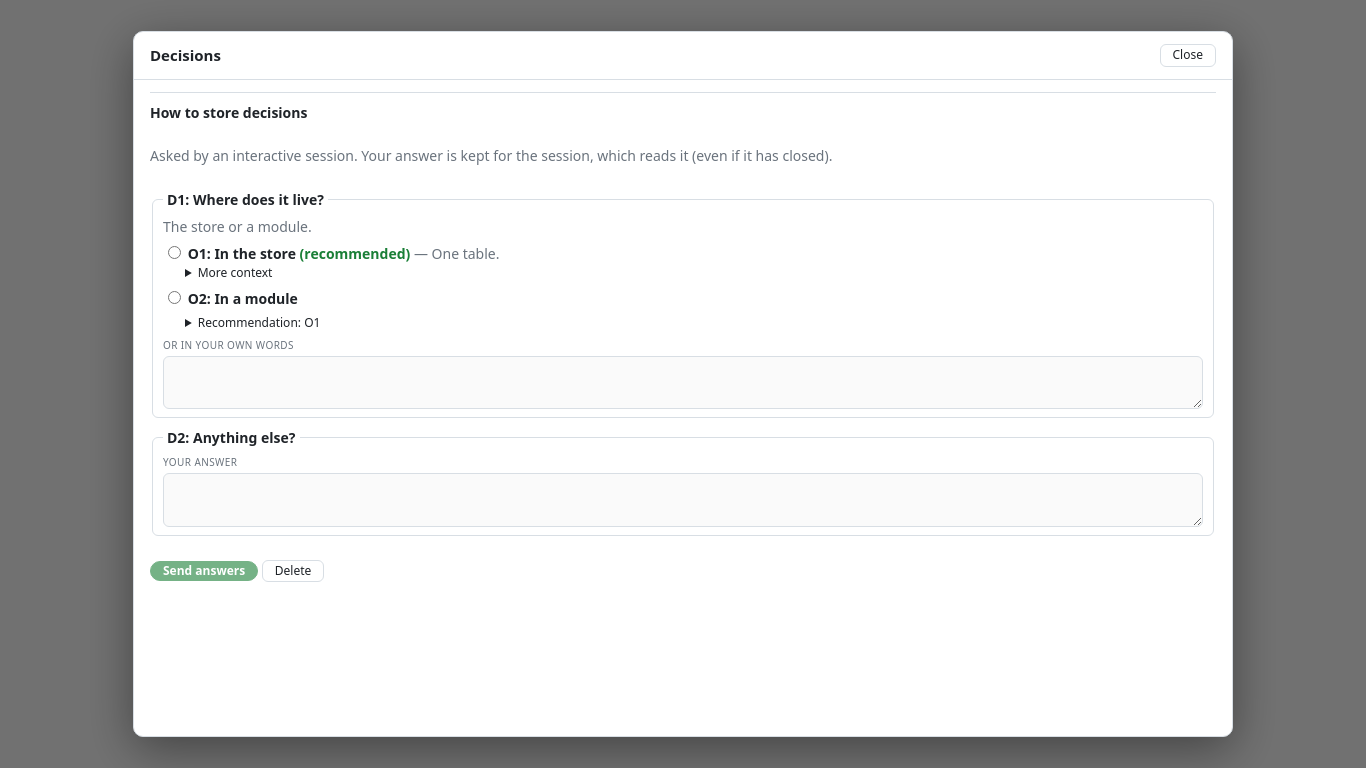
it: the decisions dialog › the answers cannot be sent until every point has an option or words
The image size is (1366, 768).
Expected: the button "Send answers" is disabled, [150,561,258,581]
Click the radio button labelled "O2: In a module": (174, 298) [168,291,181,304]
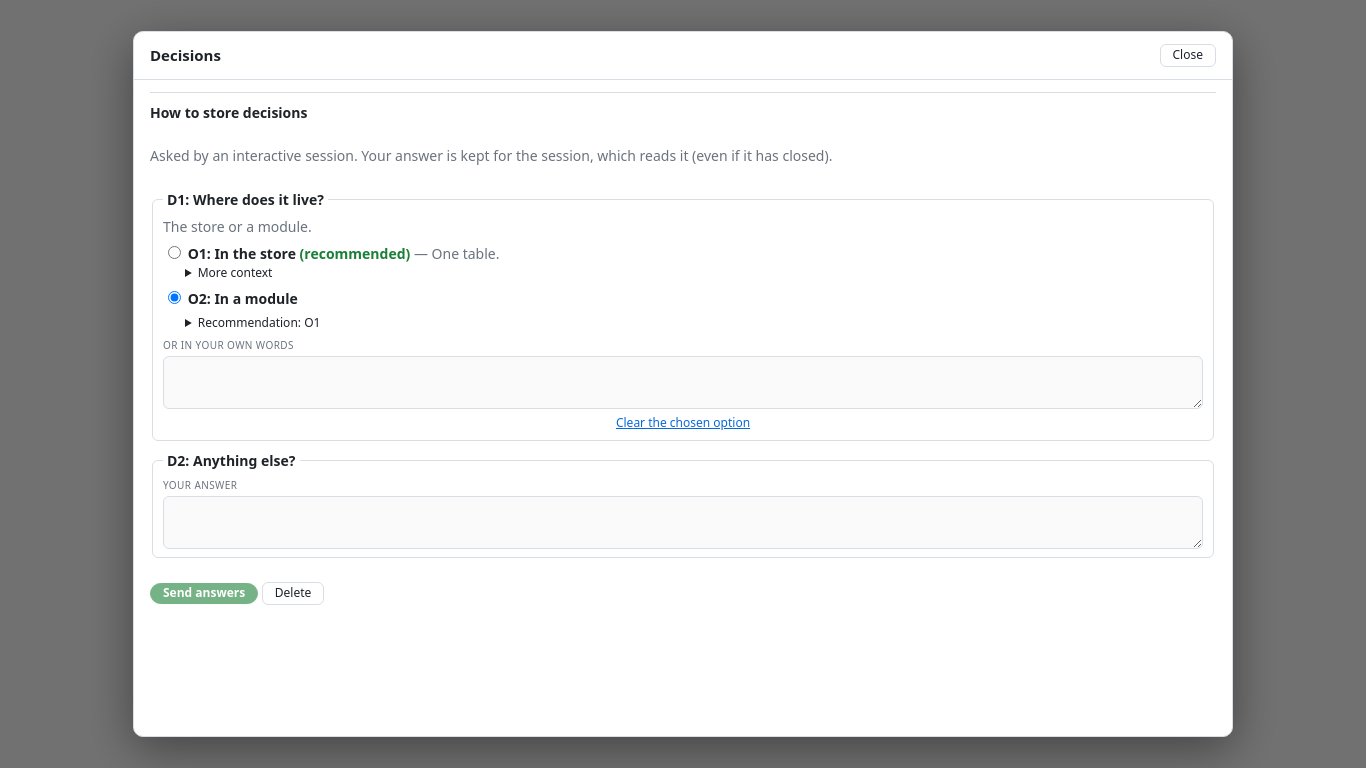
Expected: the button "Send answers" is disabled, [150,583,258,604]
In the text box named "Your words for D2": (683, 523) [163,496,1203,550], type "No."
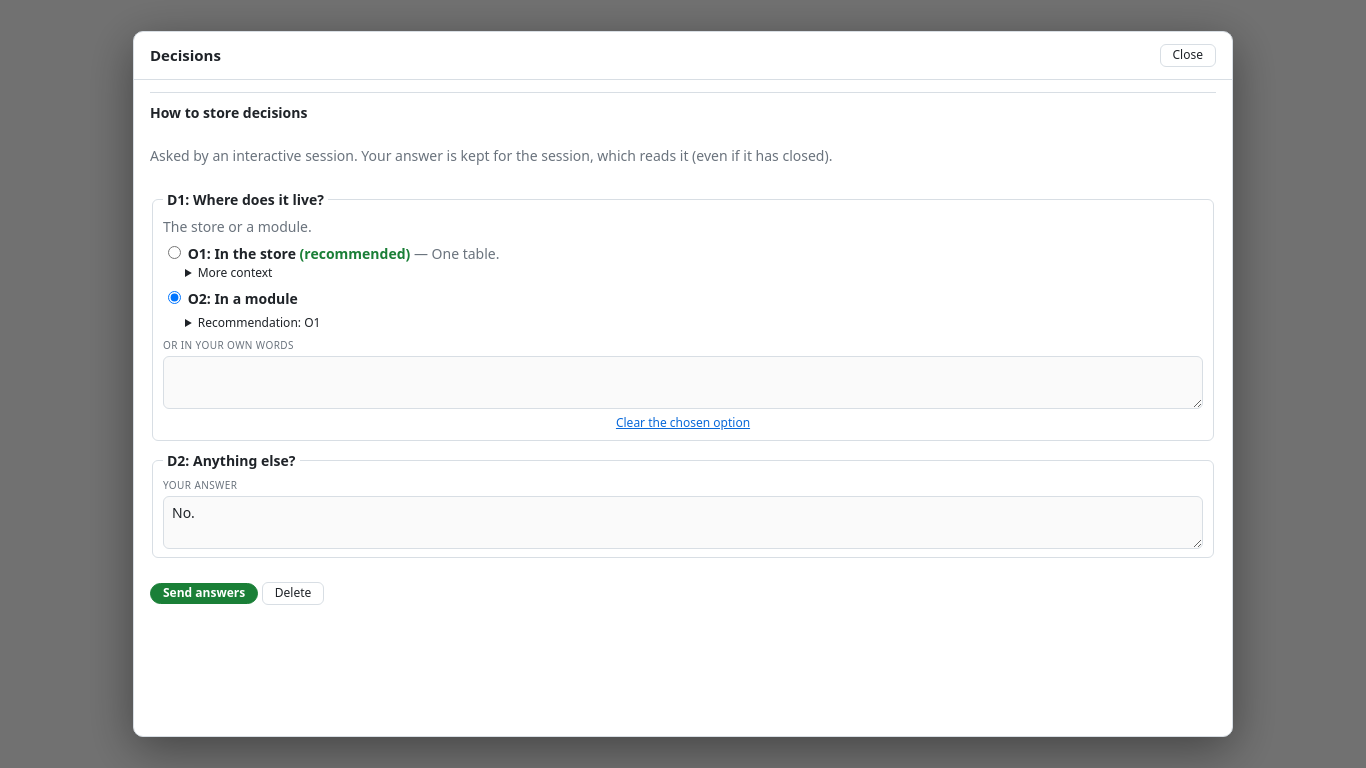
Result: the button "Send answers" is enabled at [150,583,258,604]
